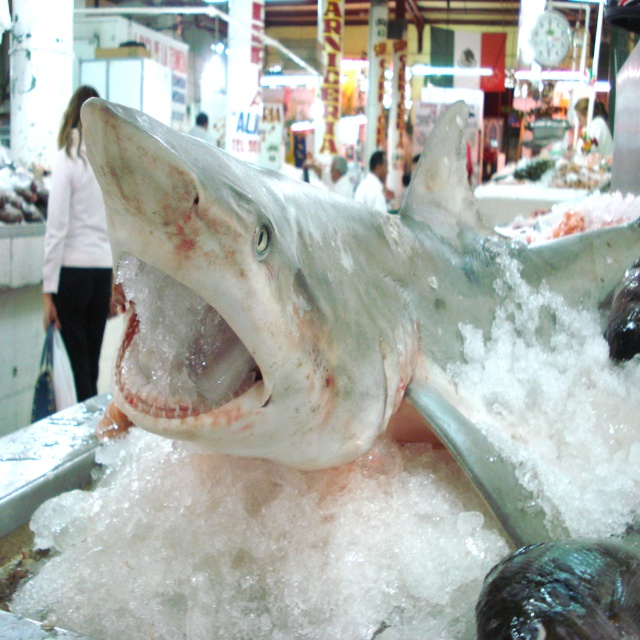Shark: (79, 106, 640, 555)
